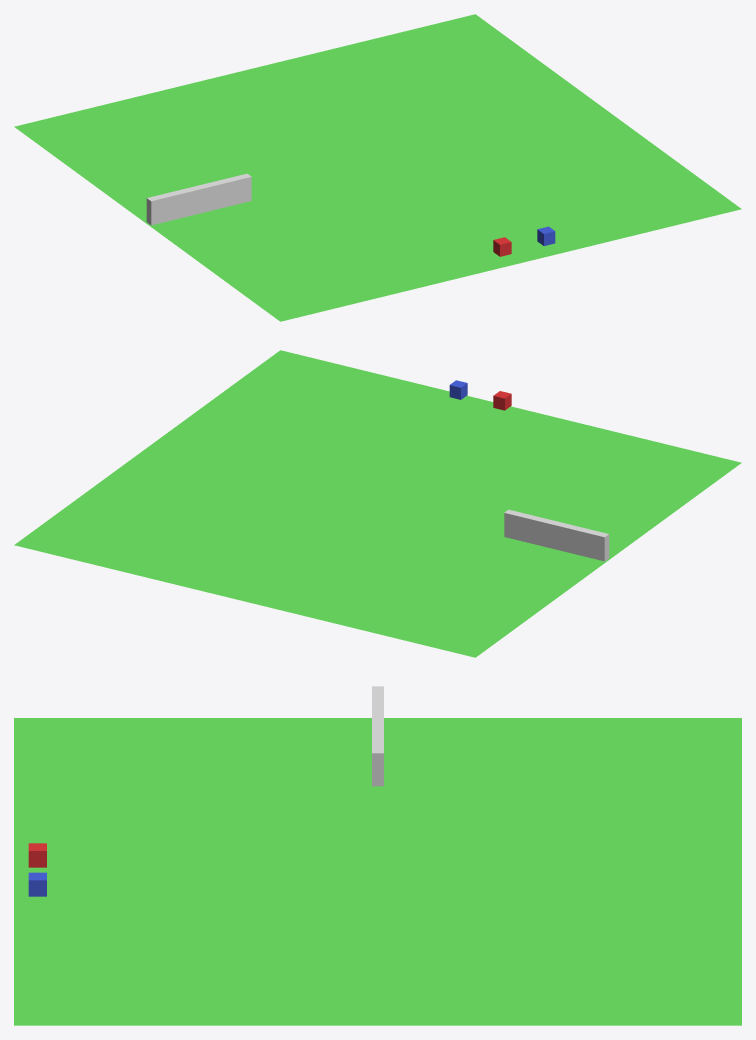
Rendered from game.gltf.
The picture shows the model from 3 angles, top to bottom: view 1: azimuth 30°, elevation 25°; view 2: azimuth 150°, elevation 25°; view 3: azimuth 270°, elevation 25°; orthographic projection. The views are drawn at different scales.
Parts seen in each view (by area): view 1: Plane, Mur; view 2: Plane, Mur; view 3: Plane, Mur.
Part boxes in pixels (box(x1,y1,x2,y2)): Plane: box(14, 14, 741, 321); Mur: box(146, 173, 251, 225); Plane: box(14, 350, 741, 657); Mur: box(504, 509, 609, 561); Plane: box(14, 718, 741, 1025); Mur: box(372, 686, 383, 786).
Size of the model in its own units: 40 by 2 by 40.
